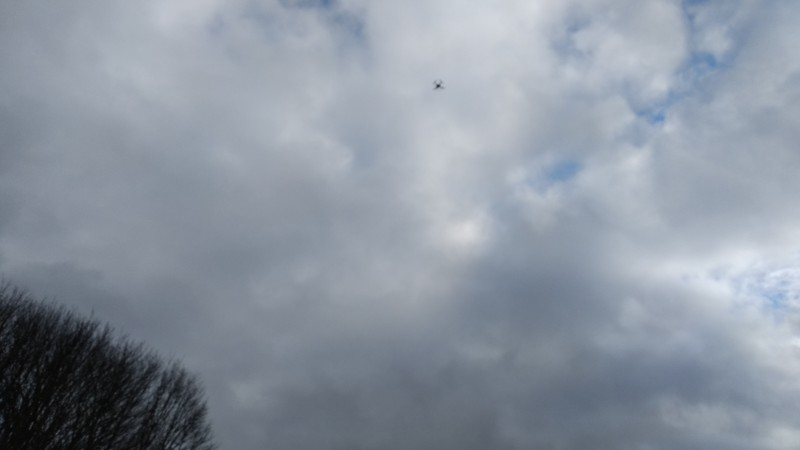drone: (432, 79, 444, 90)
